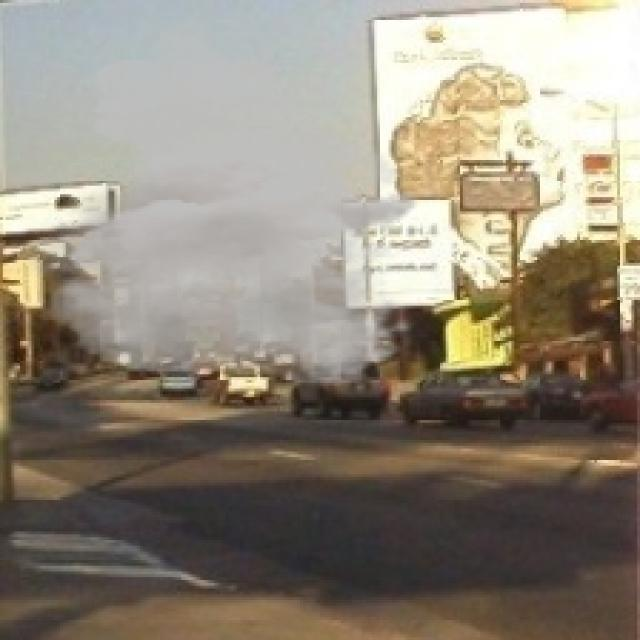Smoke: (0, 11, 420, 386)
